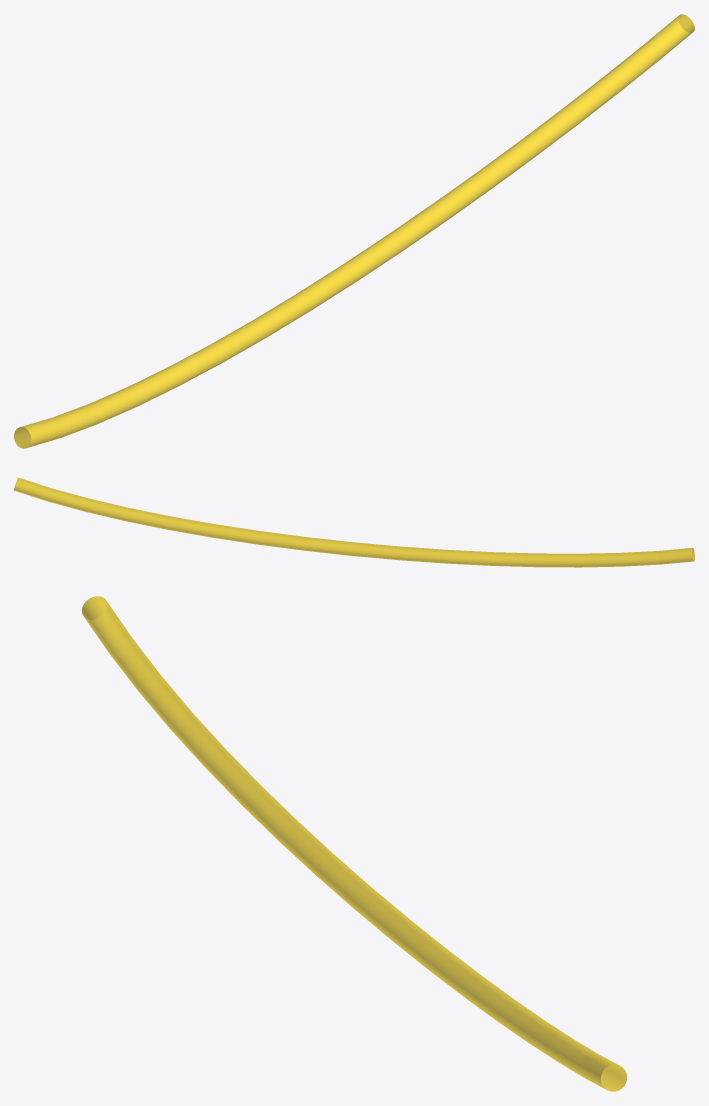
File: Event_17758602_track_93.fbx
3 views of the same model, one above another, from view 1: azimuth 30°, elevation 25°; view 2: azimuth 150°, elevation 25°; view 3: azimuth 270°, elevation 25° (orthographic). The views are drawn at different scales.
Visible parts, largest first — view 1: Model; view 2: Model; view 3: Model.
Part boxes in pixels (left/top/right/bottom): Model: left=14, top=14, right=694, bottom=448; Model: left=14, top=477, right=694, bottom=567; Model: left=81, top=596, right=627, bottom=1091.
Size of the model in its own units: 1.84 by 0.189 by 0.7849.
